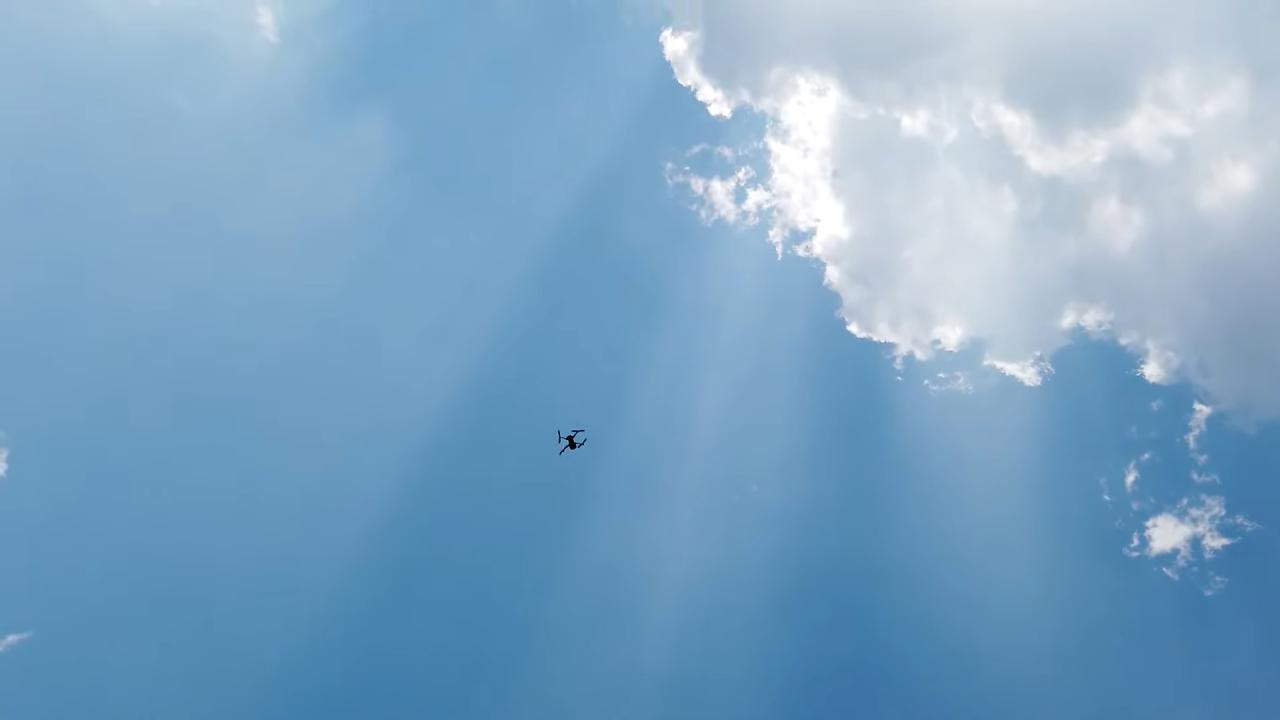Drone: (548, 419, 594, 463)
